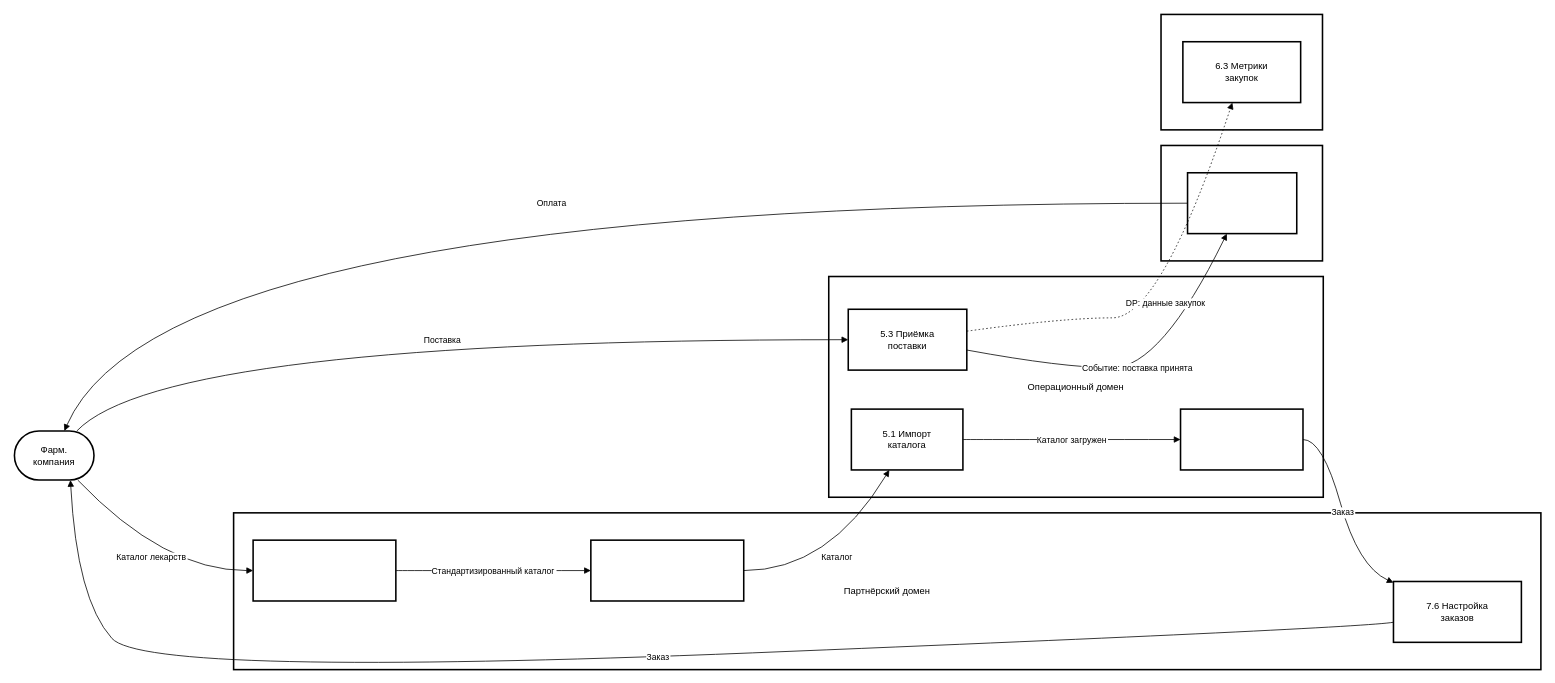
This 1555x683 diagram has some shape labels left out. The shapes that lost their labels are listed below. From the top down, each one's box as (x1, y1, x2, y2) in pixels, then its label:
(1186, 172, 1297, 234): 3.7 Оплата поставки
(1179, 408, 1303, 470): 5.2 Создание заказа
(252, 539, 396, 601): 7.4 Регистрация фарм. компании
(590, 539, 744, 601): 7.5 Настройка каталога лекарств
